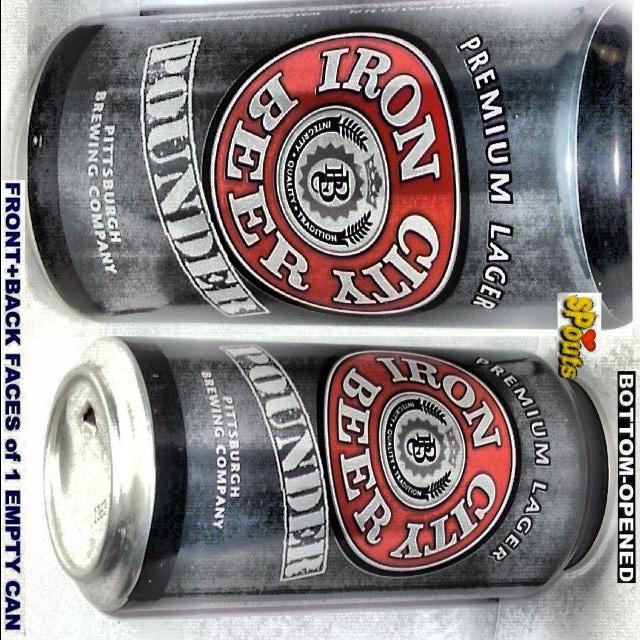Aluminum Can: (9, 0, 640, 333), (32, 332, 626, 622)
